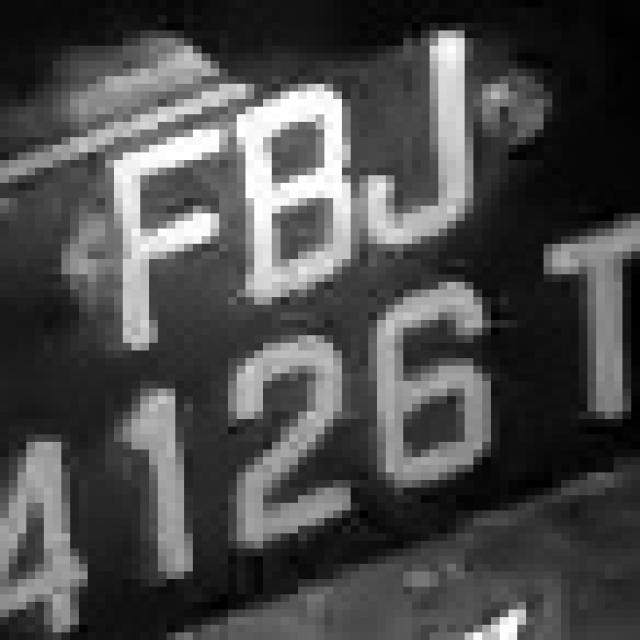1: (105, 381, 202, 594)
2: (202, 343, 377, 541)
4: (0, 5, 2, 8)
6: (342, 289, 517, 503)
B: (202, 76, 377, 320)
F: (79, 122, 237, 358)
J: (351, 30, 491, 252)
T: (500, 213, 622, 457)
